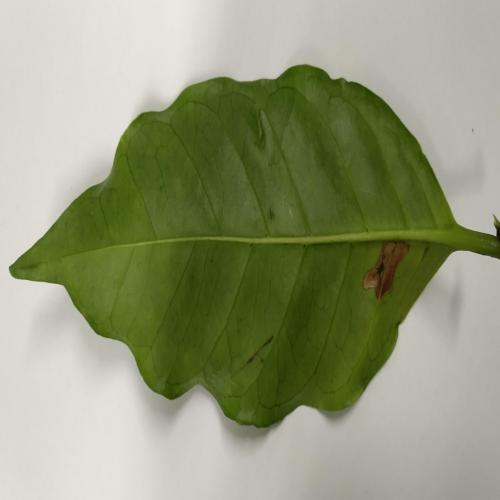leaf: (363, 240, 408, 301)
